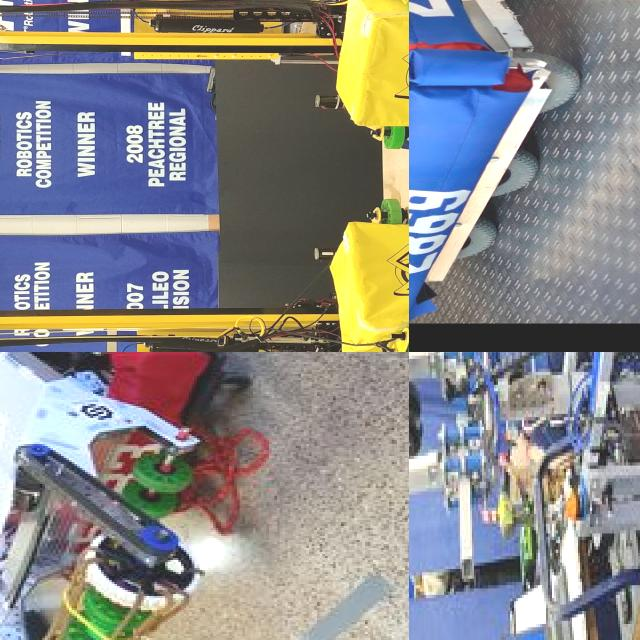FRC-Robots: (0, 0, 409, 197), (409, 0, 606, 352), (409, 352, 640, 640), (0, 352, 229, 640), (0, 230, 409, 352)
